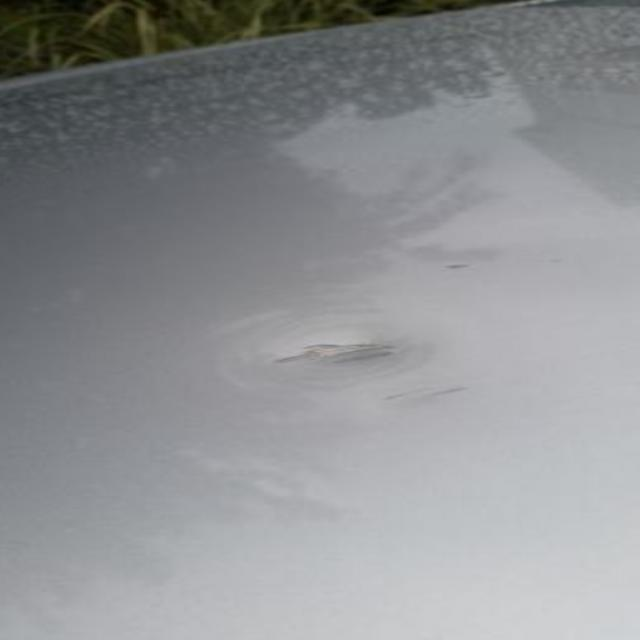dents: (249, 294, 436, 402)
